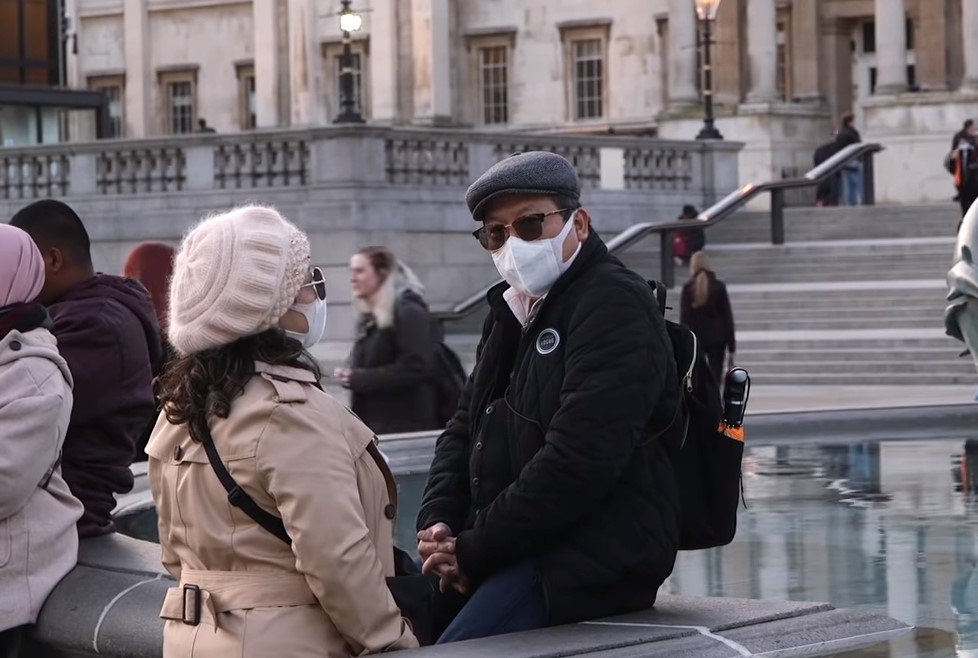face_no_mask: (346, 241, 416, 317)
face_with_mask: (162, 206, 329, 360), (466, 150, 592, 302)
